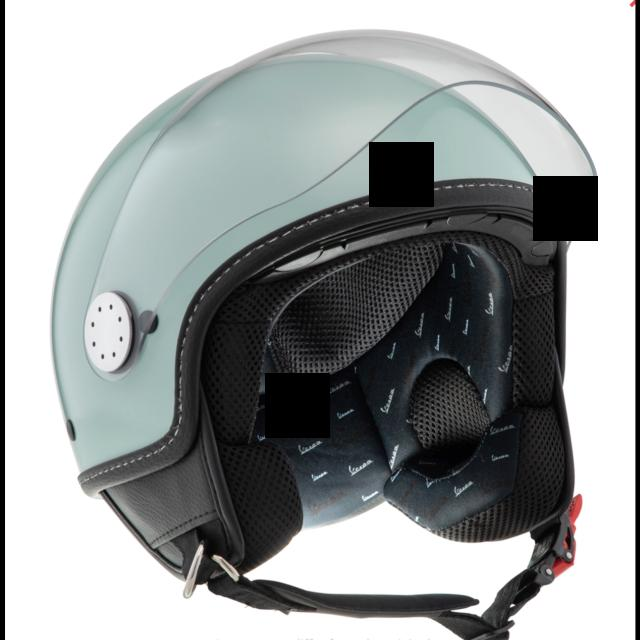Helmet: (52, 31, 596, 597)
